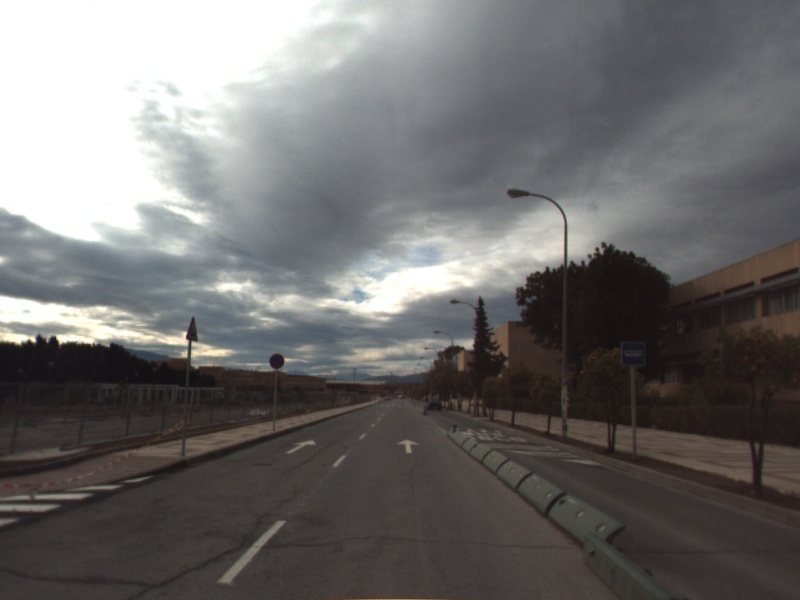STRAIGHT: (282, 437, 319, 456), (395, 437, 422, 455)
